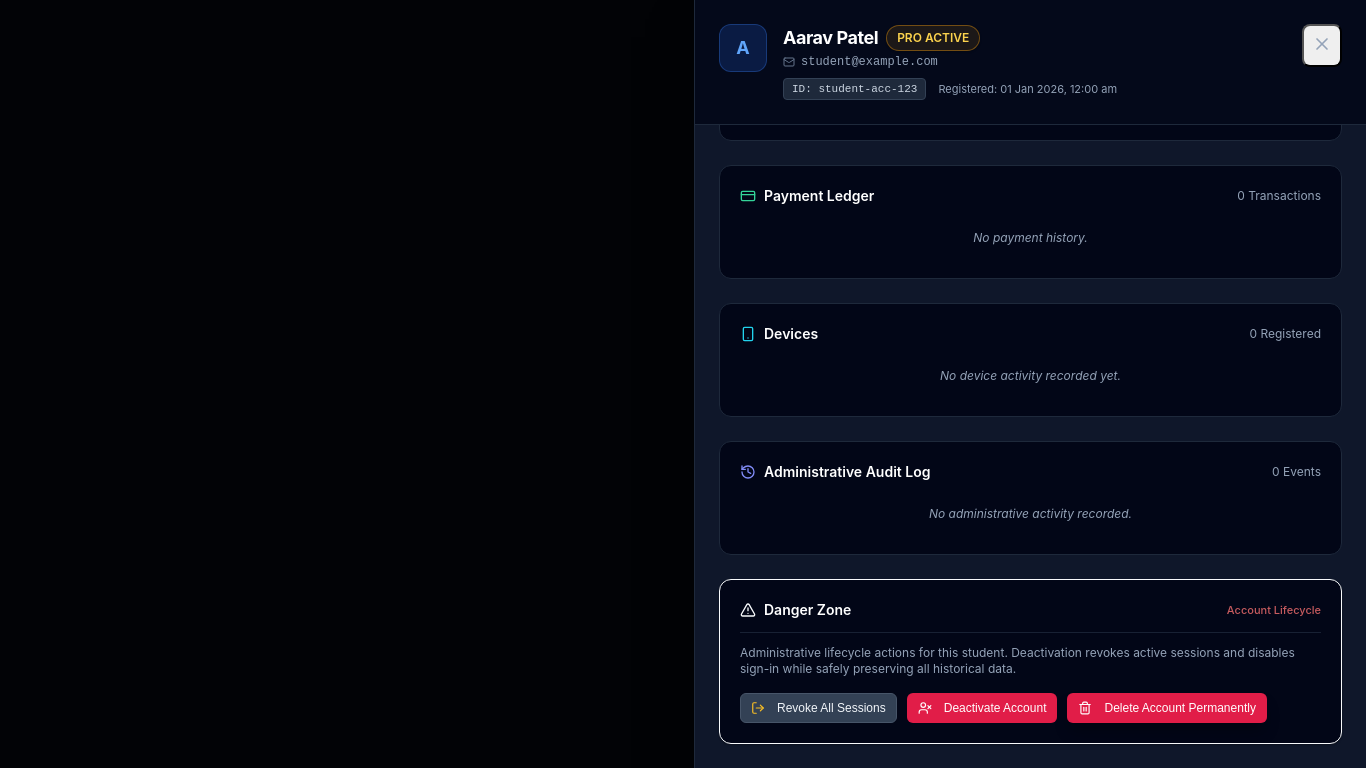
Test: Student Account Lifecycle Modals & Danger Zone Tests › 7. Danger Zone Button Opens Corresponding Modal › clicking Deactivate Account opens DeactivateAccountModal
(page scrolled)
Click the button "Deactivate Account" at coordinates (982, 708), box [907,693,1057,723]
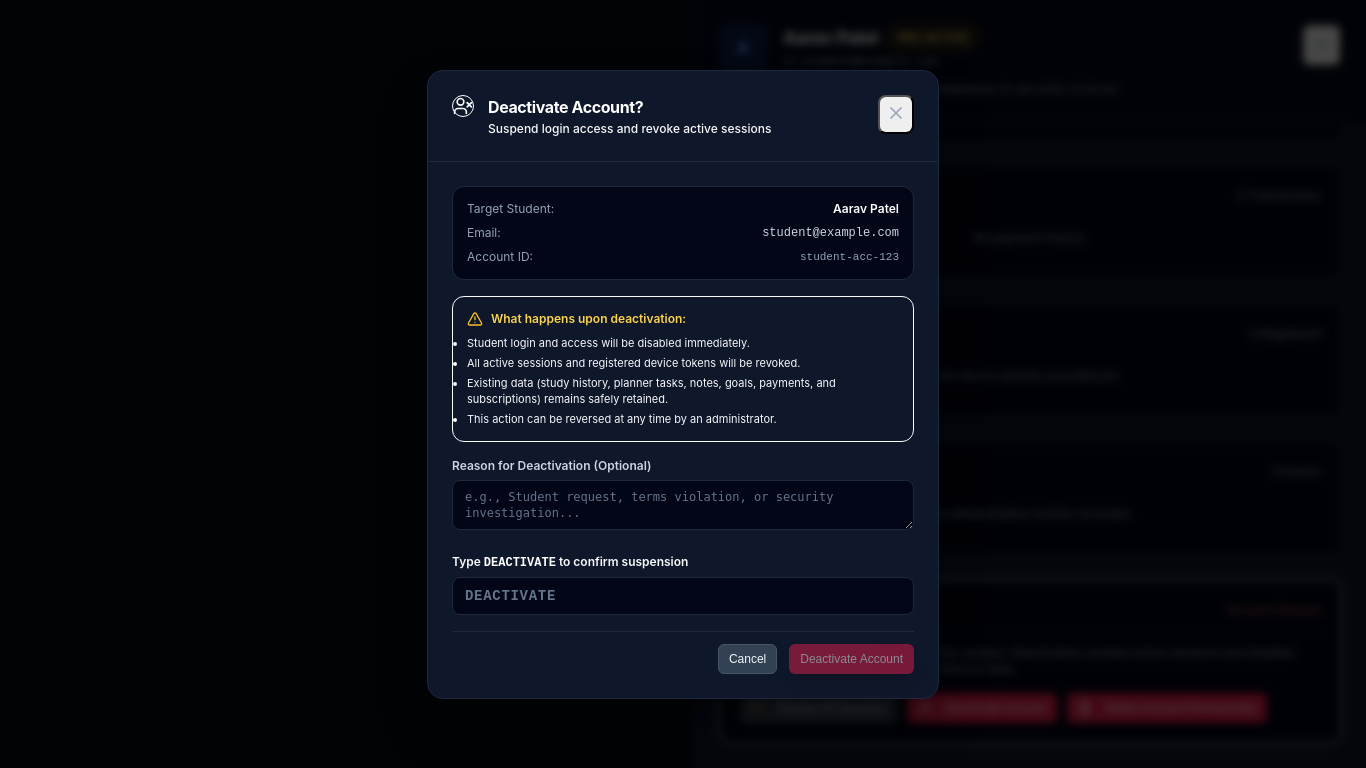
Check: the heading "Deactivate Account?" is shown, box [488,96,643,116]
